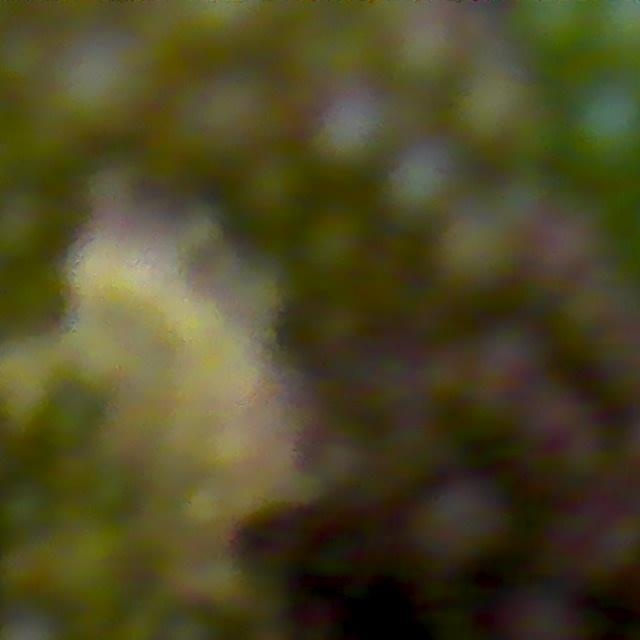SeaGrape: (166, 66, 280, 171), (532, 491, 640, 594), (511, 391, 592, 489), (313, 99, 398, 192), (419, 476, 510, 562), (454, 325, 539, 417), (378, 137, 462, 229), (436, 212, 518, 293), (0, 185, 73, 273), (569, 82, 640, 171), (5, 272, 81, 348), (456, 72, 533, 146), (172, 0, 282, 51), (388, 15, 462, 90), (238, 152, 308, 226), (300, 207, 370, 280), (41, 388, 105, 462), (531, 225, 590, 304), (512, 0, 593, 54), (0, 480, 56, 542)
